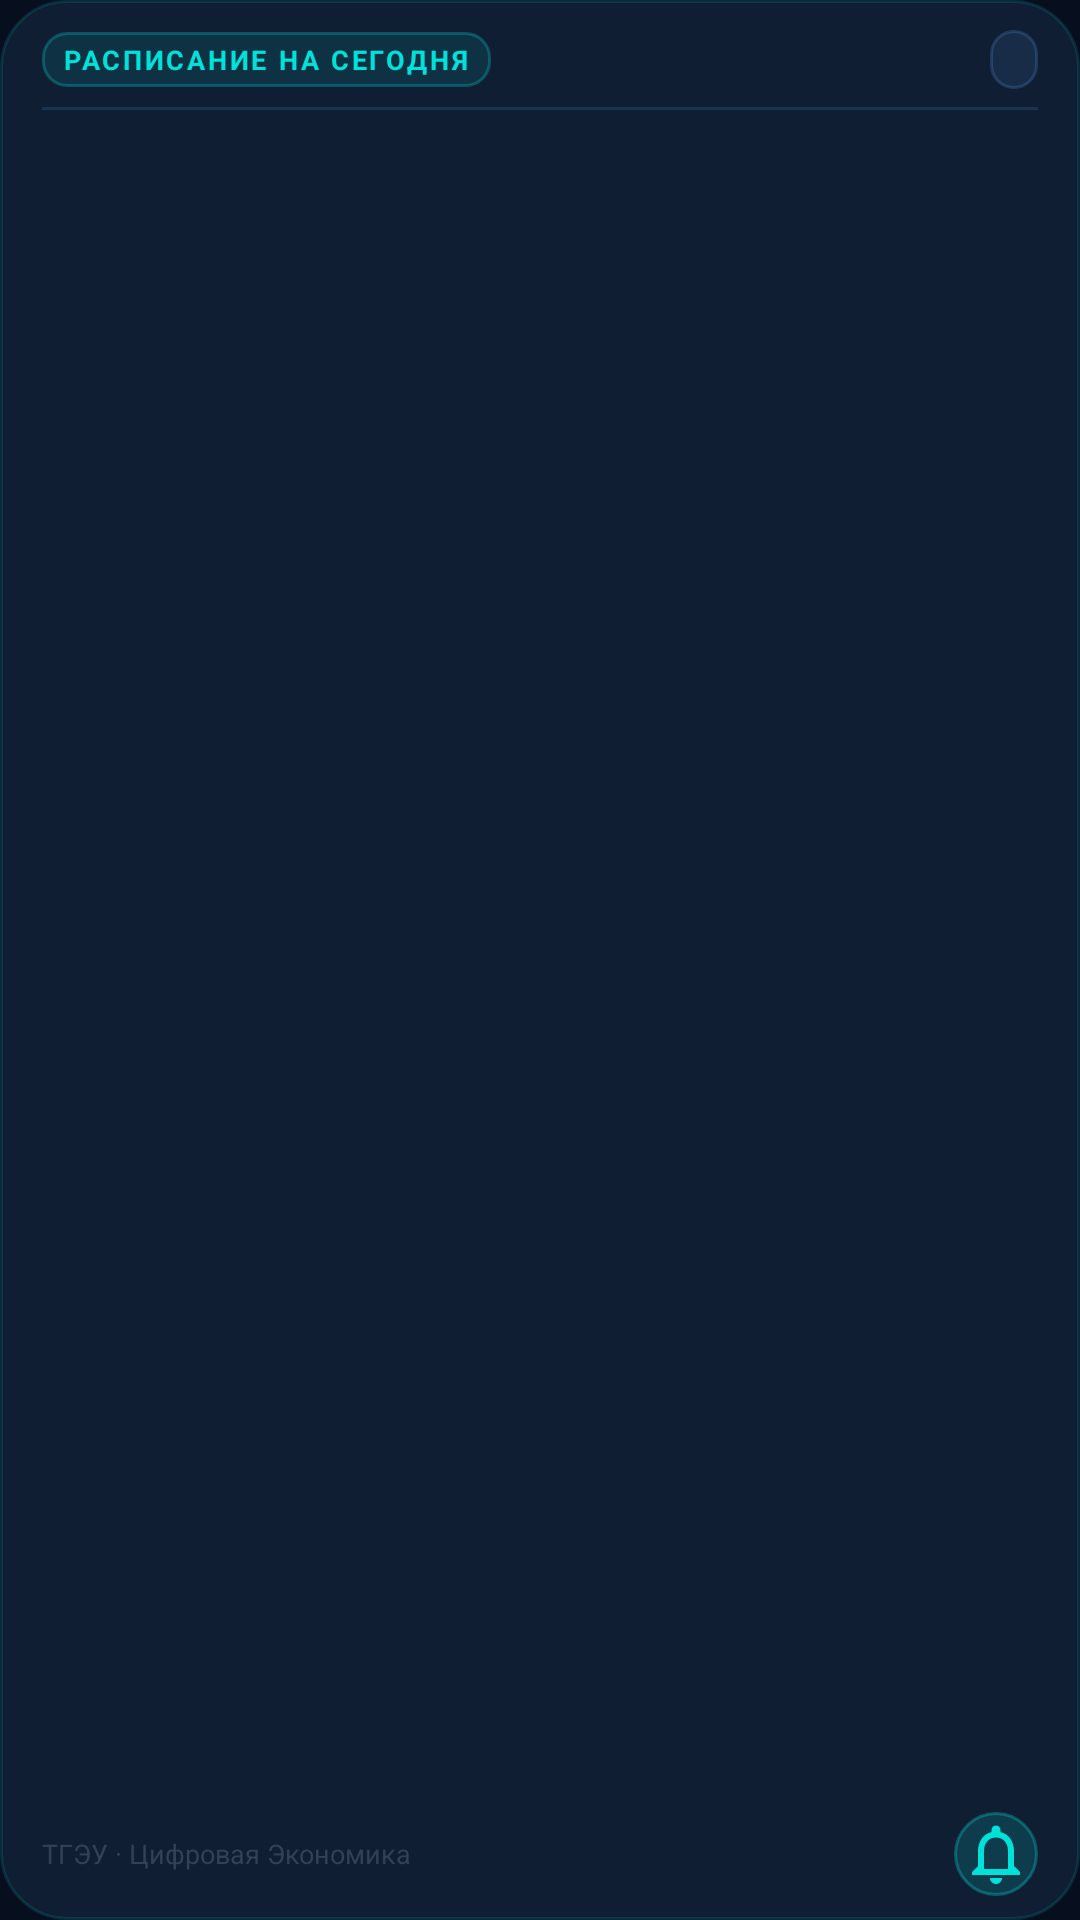

Screen size 1080×1920. Icon name, then its box in pixels as (x1=x1, y1=y1, x2=x2, y2=y2):
Уведомления: (x1=954, y1=1812, x2=1038, y2=1896)
